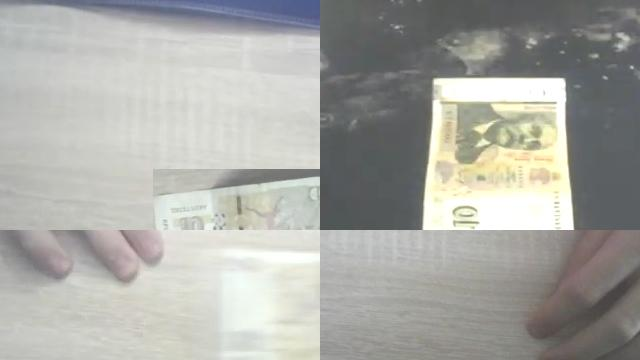10leva: (153, 172, 320, 230), (443, 200, 484, 230)
